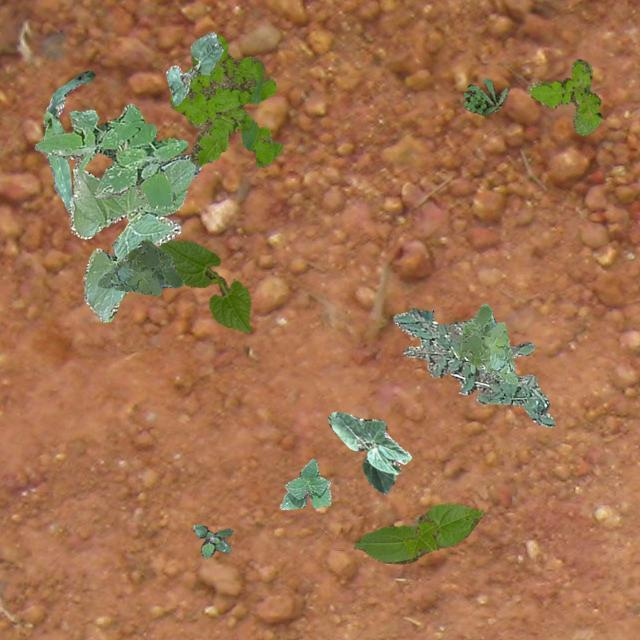crop: (68, 152, 200, 320), (157, 240, 250, 332), (353, 502, 481, 562), (42, 70, 94, 210), (326, 411, 411, 494), (164, 30, 222, 104), (278, 458, 329, 508)
weed: (392, 308, 554, 427), (34, 102, 186, 208), (168, 34, 282, 165), (526, 58, 602, 134), (96, 238, 182, 294), (456, 302, 516, 382), (462, 78, 508, 114), (193, 524, 231, 558)
